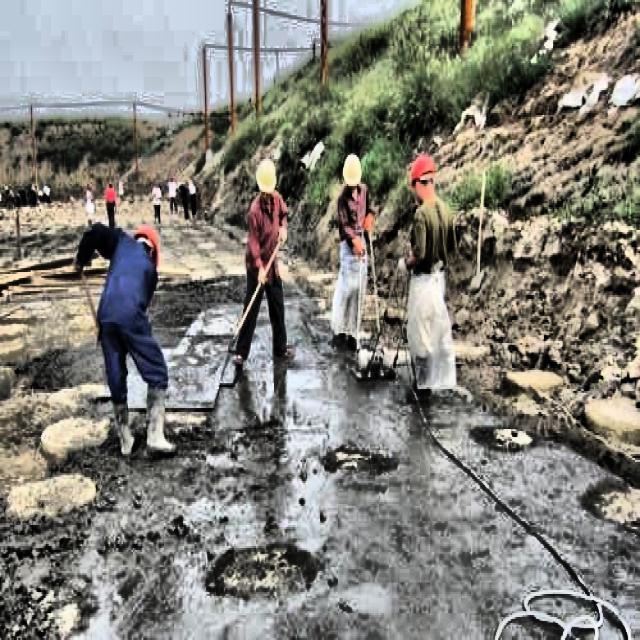helmet: (128, 219, 164, 270), (407, 152, 439, 202), (255, 153, 280, 203), (340, 152, 365, 194)
